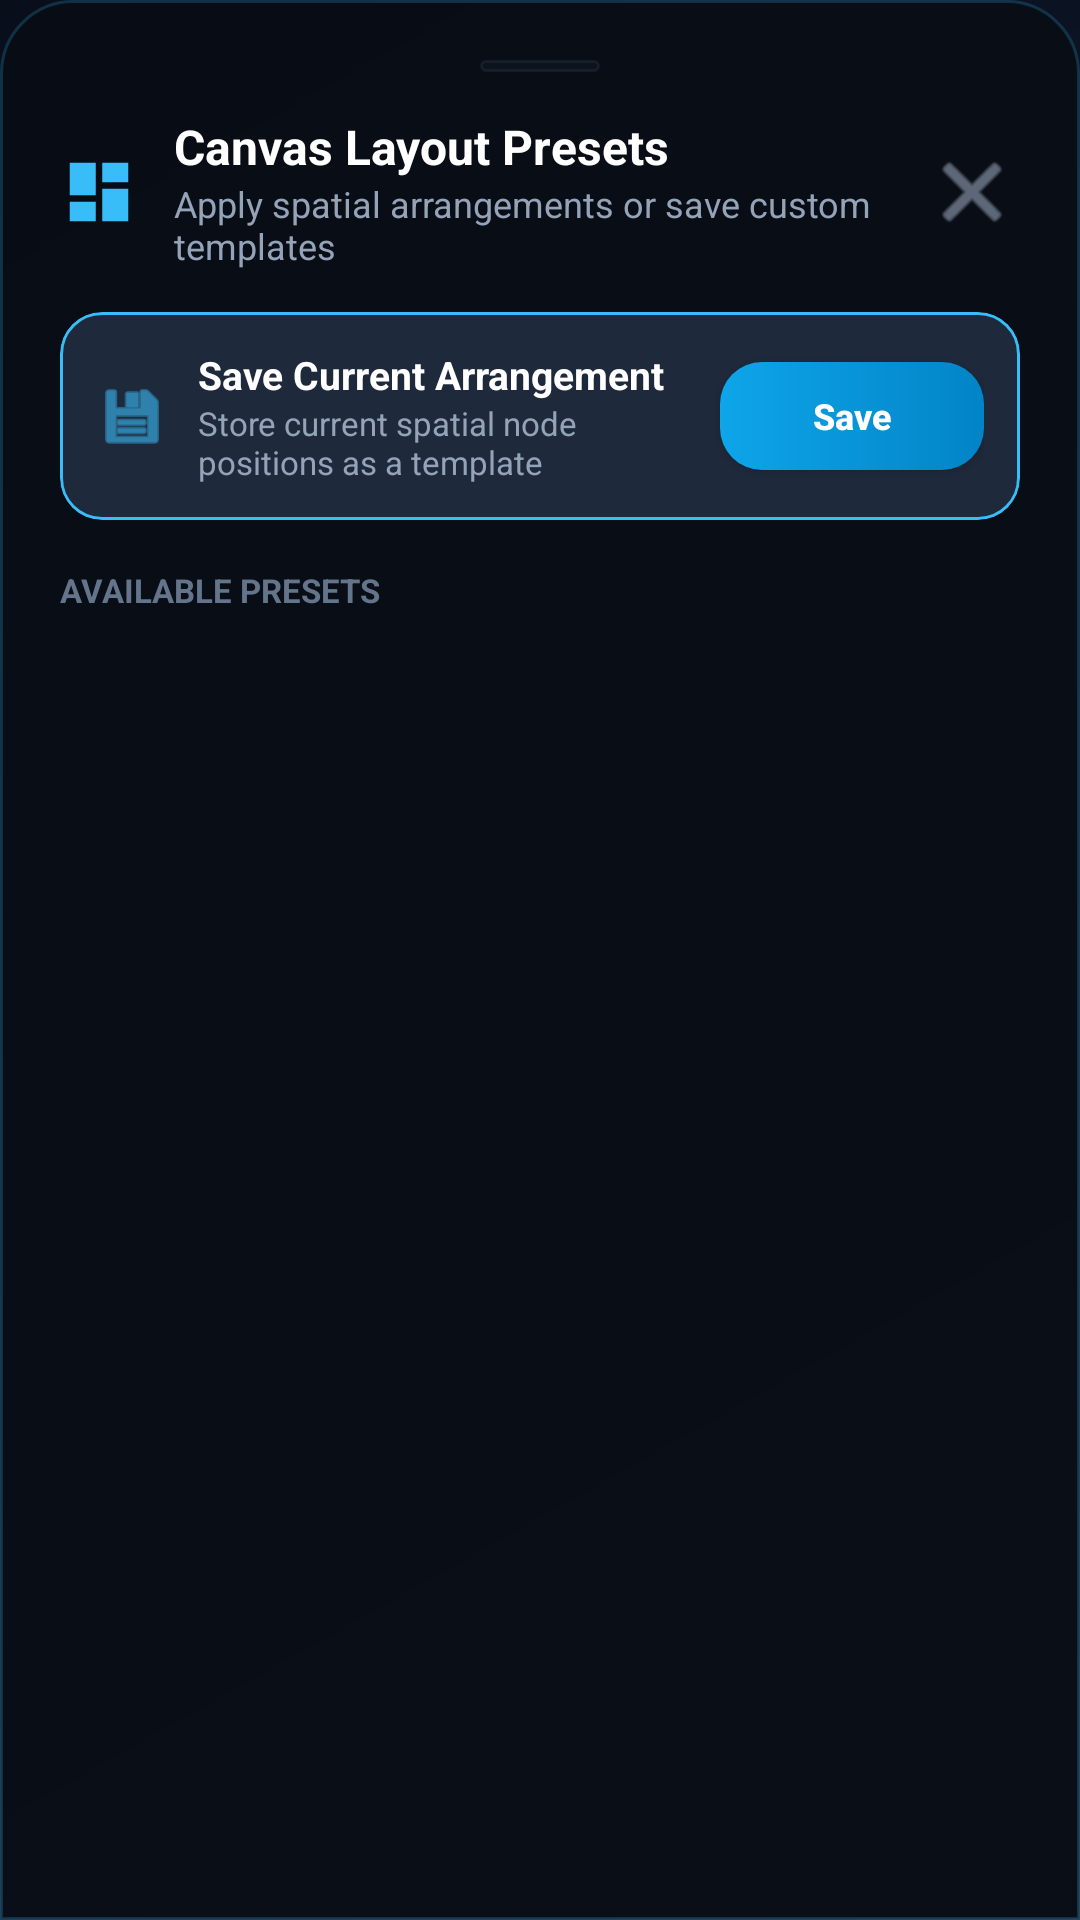

Icons on this 1080x1920 Android screen, each with its box as (x1, y1, x2, y2):
Close: (942, 162, 1002, 222)
